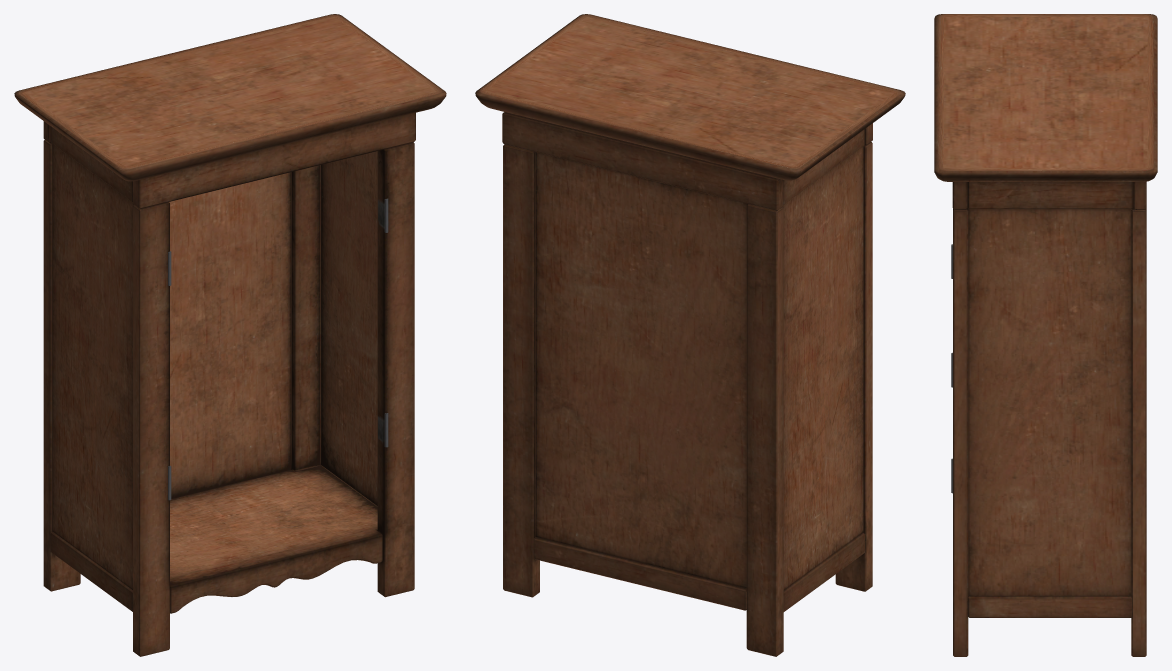
File: Wardrobe.fbx
The picture shows the model from 3 angles, left to right: view 1: azimuth 30°, elevation 25°; view 2: azimuth 150°, elevation 25°; view 3: azimuth 270°, elevation 25°; orthographic projection.
Parts seen in each view (by area): view 1: WardrobeNoCovers_LOD0; view 2: WardrobeNoCovers_LOD0; view 3: WardrobeNoCovers_LOD0.
Boxes of the visible parts, <box> form: WardrobeNoCovers_LOD0: <box>14,14,446,656</box>; WardrobeNoCovers_LOD0: <box>475,14,905,656</box>; WardrobeNoCovers_LOD0: <box>934,14,1157,656</box>.
Size of the model in its own units: 55.23 by 80.56 by 32.79.
